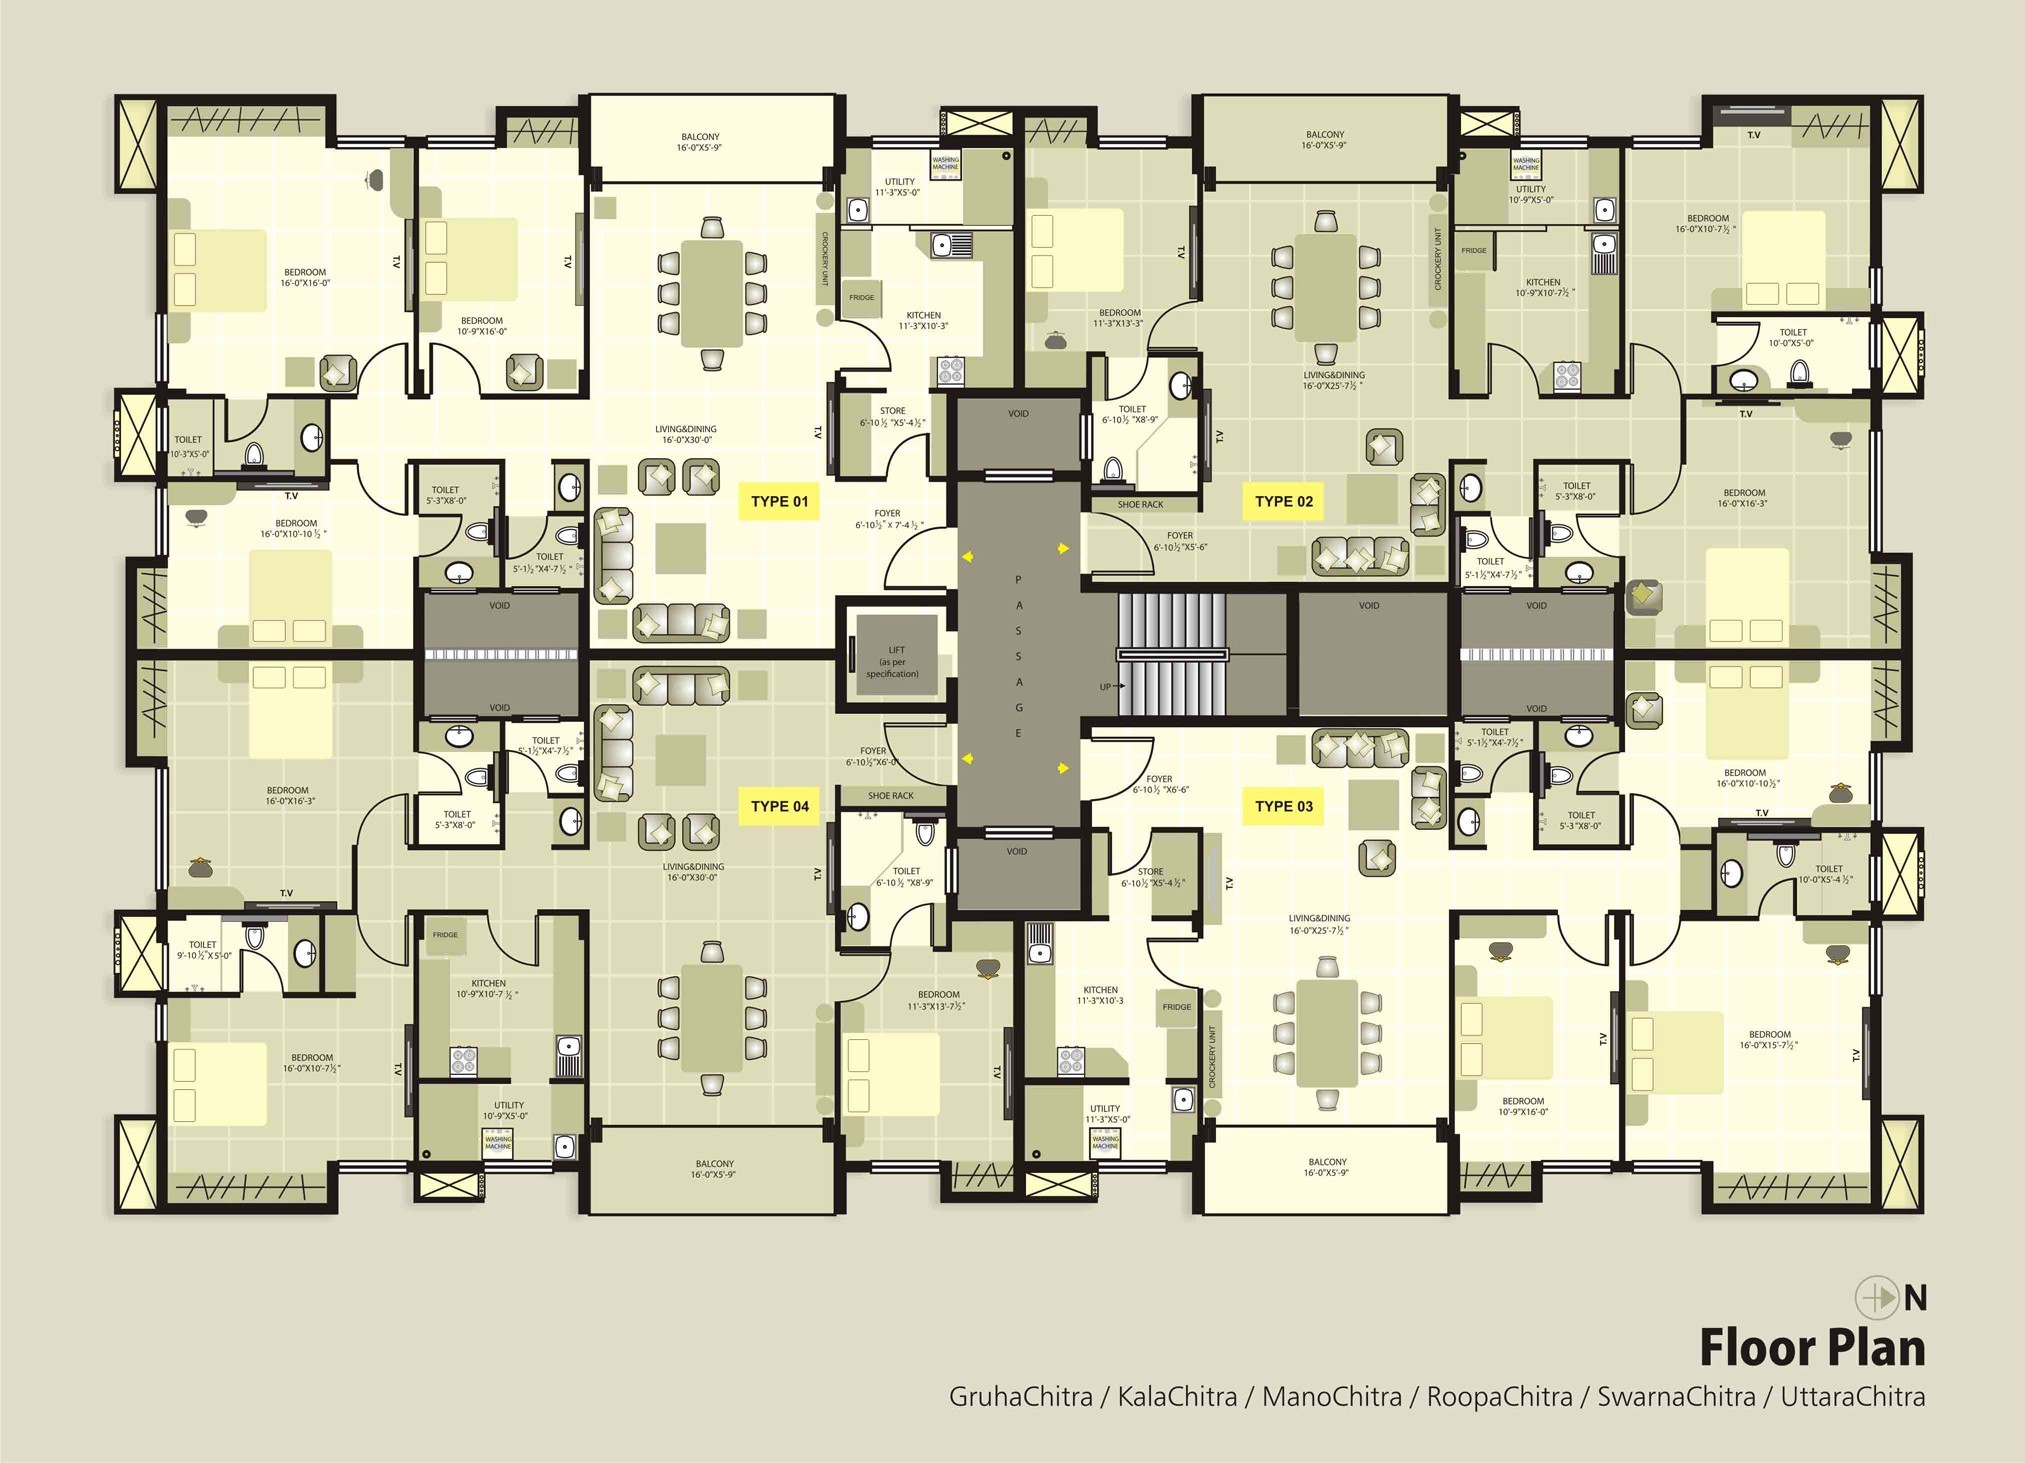window: (153, 765, 175, 893), (1866, 427, 1884, 555), (1868, 429, 1884, 553), (1866, 922, 1888, 996), (1627, 132, 1706, 151), (1516, 134, 1593, 152), (1629, 1157, 1703, 1175), (153, 311, 171, 383), (424, 132, 497, 151), (153, 486, 171, 556), (333, 134, 409, 151), (983, 468, 1057, 486), (869, 134, 943, 151), (1096, 135, 1170, 152), (1538, 1155, 1612, 1172), (1094, 1160, 1170, 1175), (336, 1160, 410, 1175), (869, 1160, 943, 1175), (983, 827, 1057, 842), (1866, 853, 1887, 904), (1866, 852, 1887, 902), (481, 1160, 553, 1174), (1866, 321, 1887, 369), (153, 405, 173, 453), (942, 845, 961, 896), (1077, 412, 1096, 462), (153, 1001, 171, 1043), (1462, 583, 1509, 596), (511, 585, 560, 596), (1462, 713, 1511, 724), (1560, 585, 1608, 596), (1558, 713, 1607, 724), (429, 713, 476, 724), (428, 586, 480, 596), (520, 713, 560, 724)
